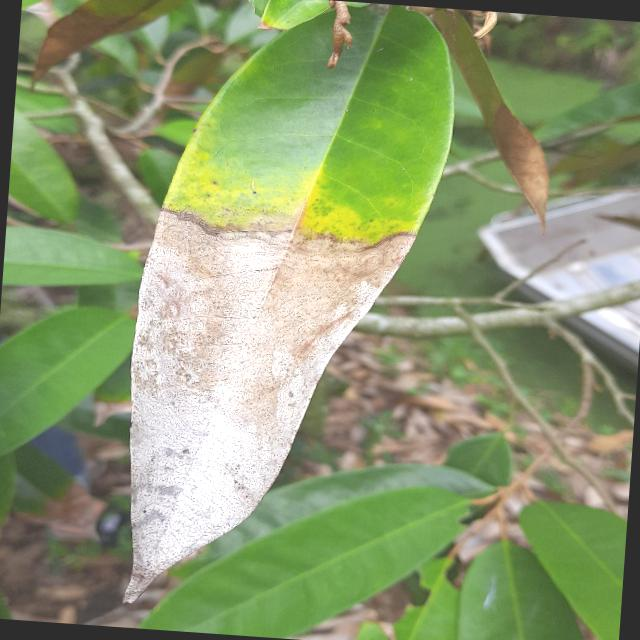Leaf Blight: (106, 0, 472, 632)
